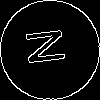N: (25, 25, 75, 67)
